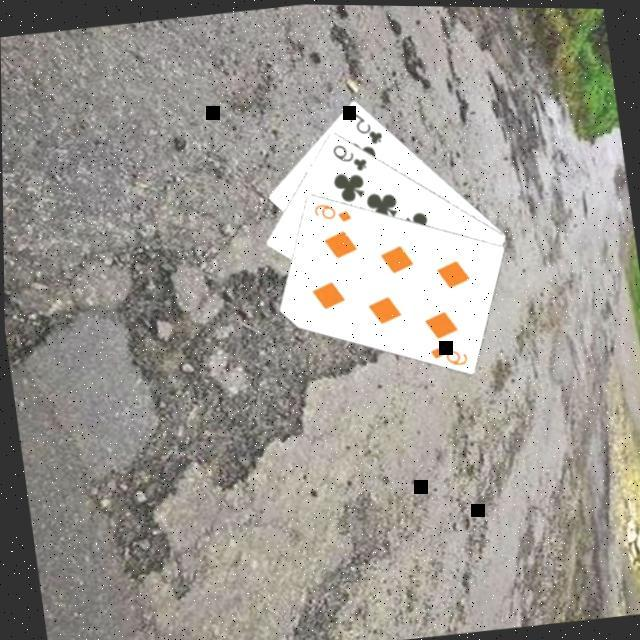5C: (346, 107, 386, 149)
6D: (425, 339, 471, 372), (310, 197, 354, 229)
9C: (329, 138, 371, 177)
